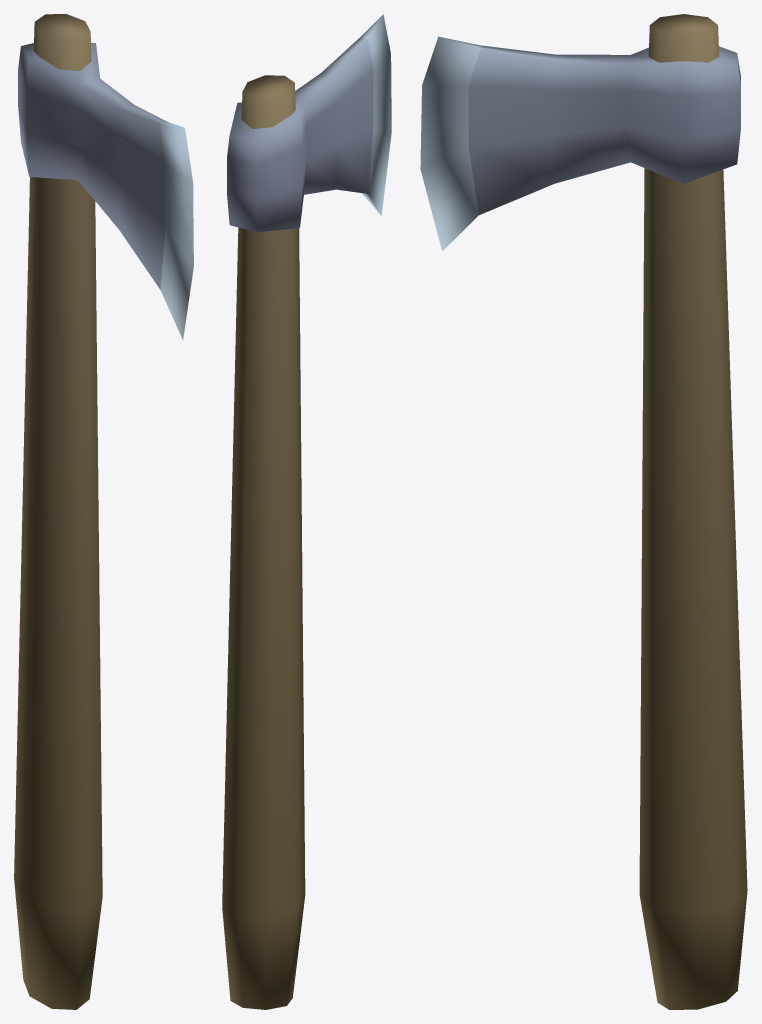
The model's file is mt-axe.fbx.
3 views of the same model, side by side, from view 1: azimuth 30°, elevation 25°; view 2: azimuth 150°, elevation 25°; view 3: azimuth 270°, elevation 25° (orthographic). The views are drawn at different scales.
Visible parts, largest first — view 1: Cylinder.008; view 2: Cylinder.008; view 3: Cylinder.008.
Part boxes in pixels (x1=…): Cylinder.008: x1=14, y1=14, x2=193, y2=1009; Cylinder.008: x1=222, y1=14, x2=391, y2=1009; Cylinder.008: x1=420, y1=14, x2=747, y2=1009.
Size of the model in its own units: 18.82 by 243 by 73.79.
Materials: 1 (1 with a texture image).
